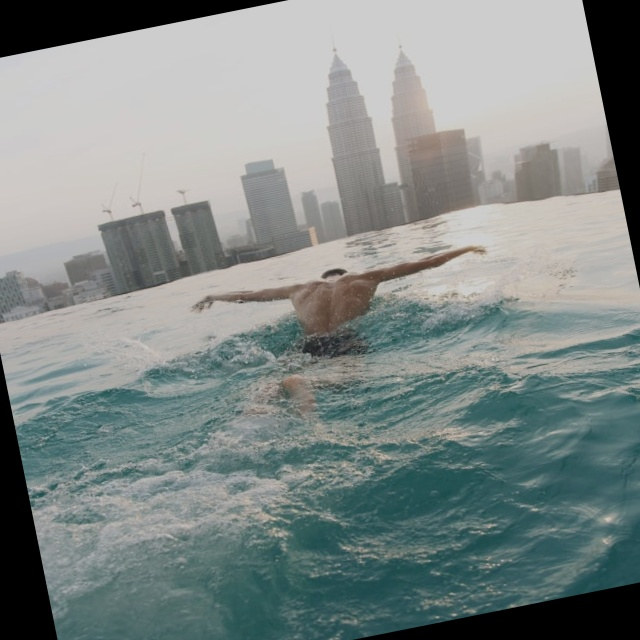contaminated_water: (13, 13, 627, 627)
foam_scum: (0, 0, 606, 270), (0, 191, 640, 366)
turbid_water: (108, 90, 640, 548)
